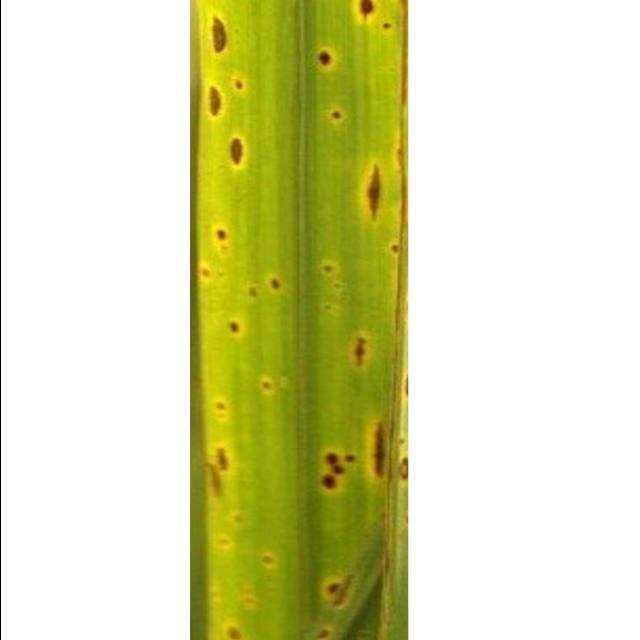Brown spot: (125, 0, 438, 640)
